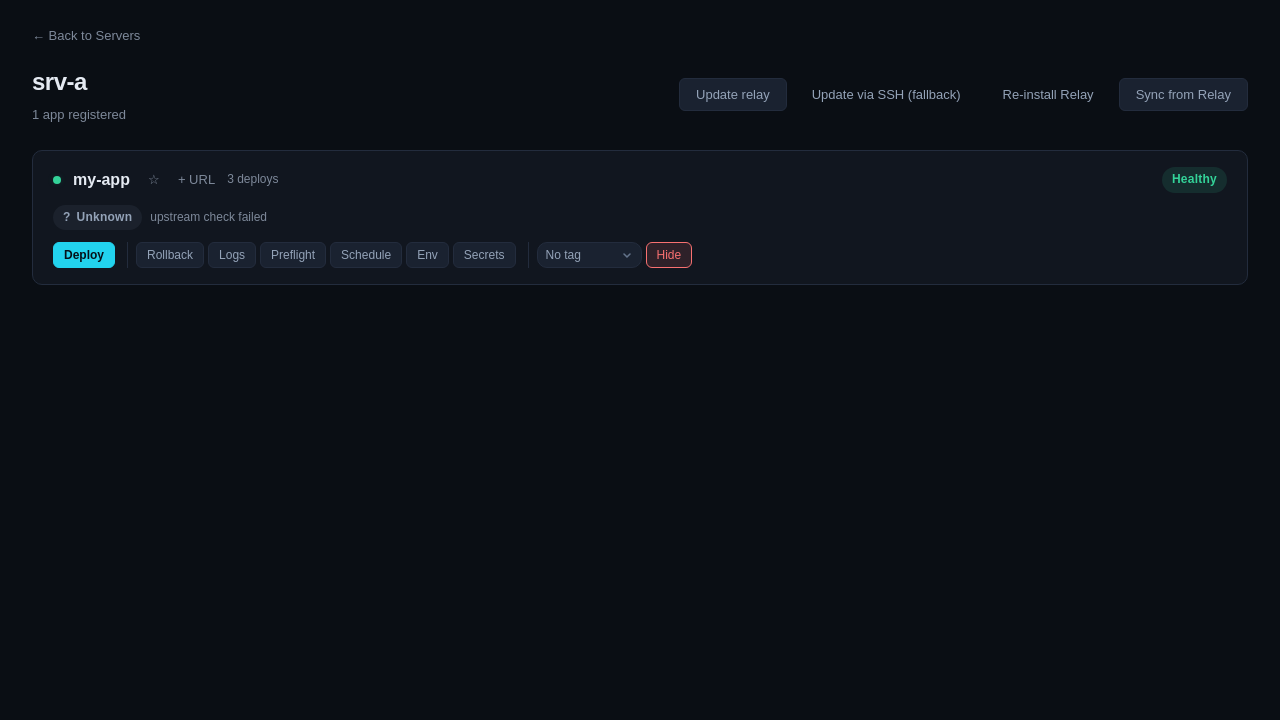
Test: ServerDetailPage - deploy step output › shows a failed step's stored output text, disclosure open by default
Expected: the text "my-app" is shown, [73,167,130,193]
Click the button "Deploy".
click(84, 255)  # box [53,242,115,268]
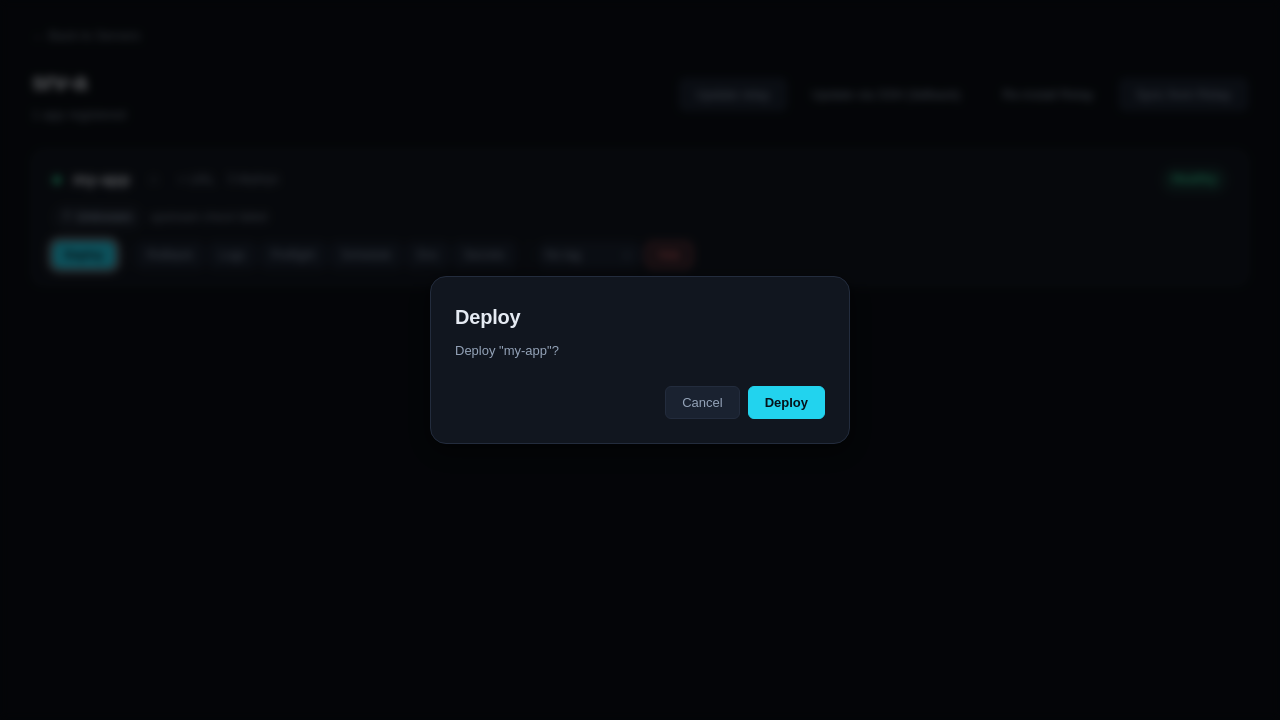
Click the button "Deploy".
click(786, 402)  # box [748,386,825,419]
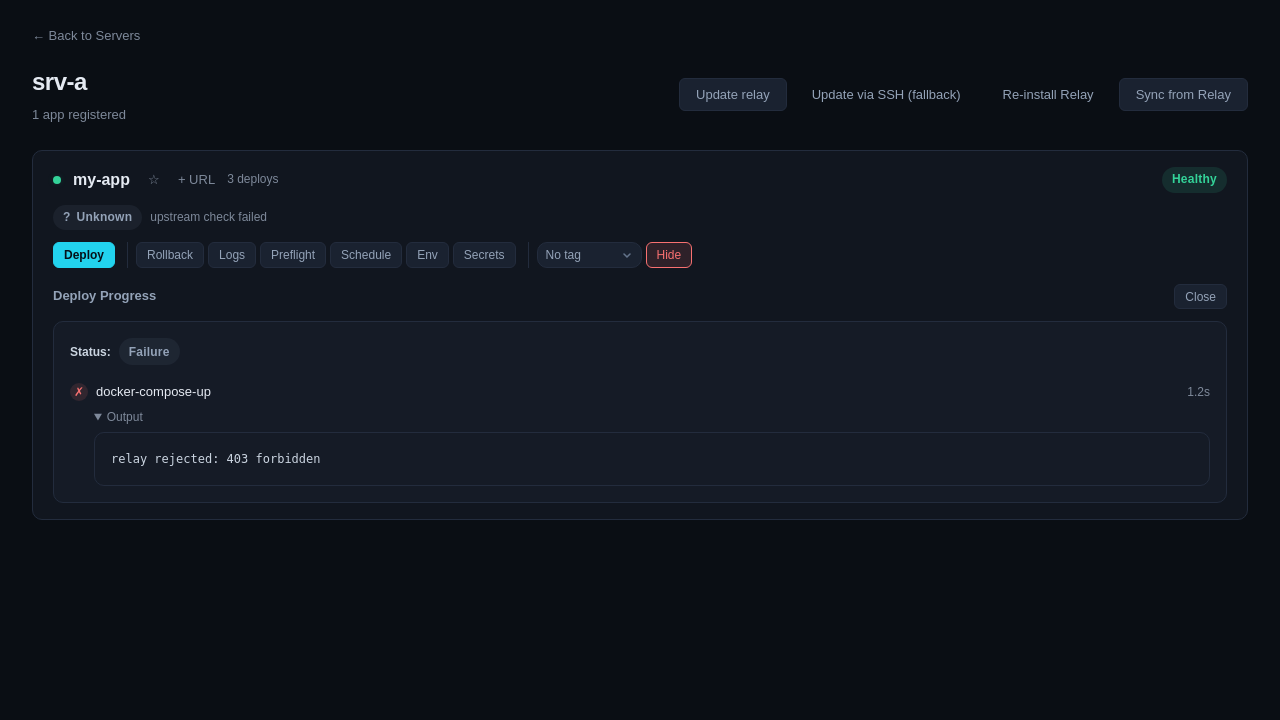
Expected: the text "Deploy Progress" is shown, [53,286,156,307]
Expected: the text "relay rejected: 403 forbidden" is shown, [94,432,1210,486]
